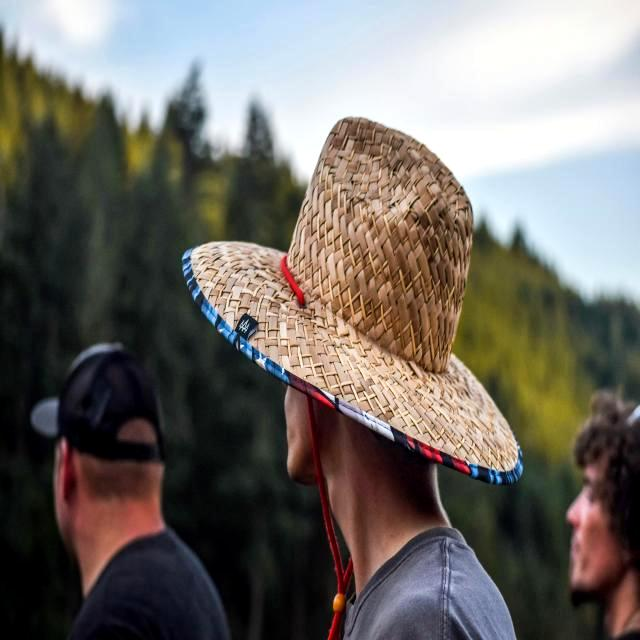no_hard_hat: (182, 117, 523, 484), (30, 343, 165, 463)
no_head_wear: (574, 391, 640, 540)
person: (281, 177, 523, 640), (31, 343, 230, 640), (567, 391, 640, 640)
